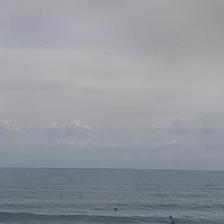surfer: (113, 207, 117, 211), (169, 215, 173, 218), (60, 194, 62, 196), (172, 221, 174, 223)
